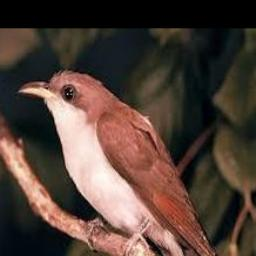Cuckoo: (18, 70, 230, 256)
